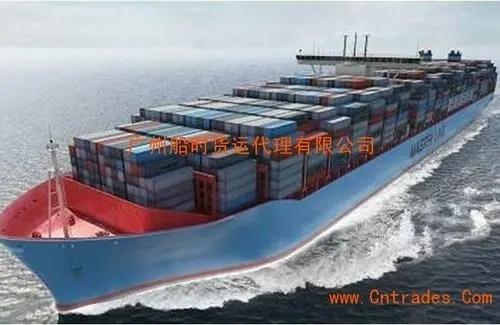Cargoship: (5, 30, 500, 304)
